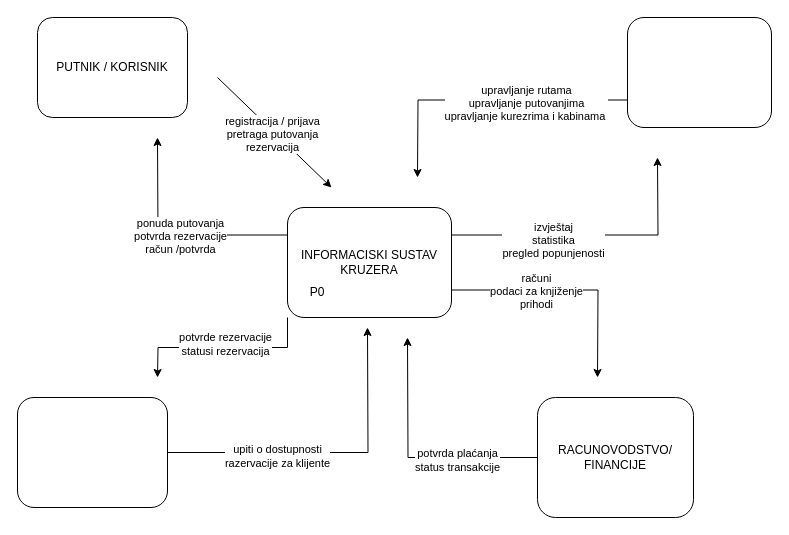
Some shapes in this 789 by 535 pixel diagram are drawn without their labels. The centre of each missing label's shape, as x and y in pixels:
ADMINISTRATOR/ OPERATER: the point at 699,72
TURISTIČKA AGNECIJA/PARTNER: the point at 92,452
